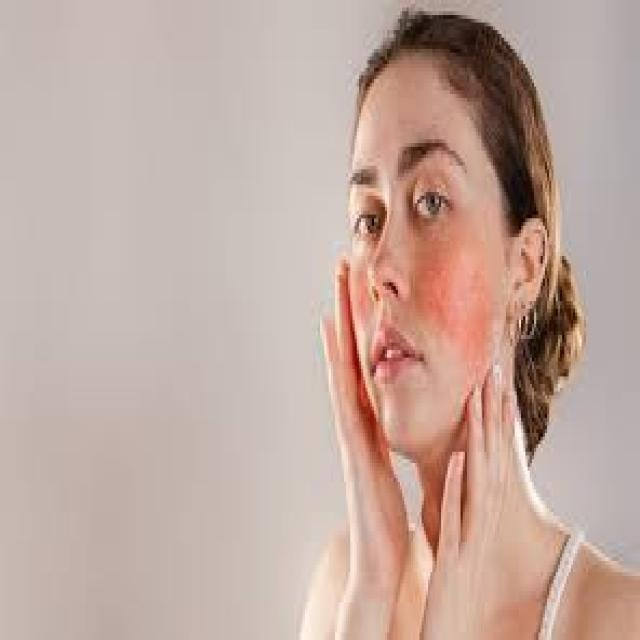Rosacea: (406, 234, 498, 370), (346, 254, 374, 318)
